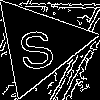S: (14, 20, 57, 72)
